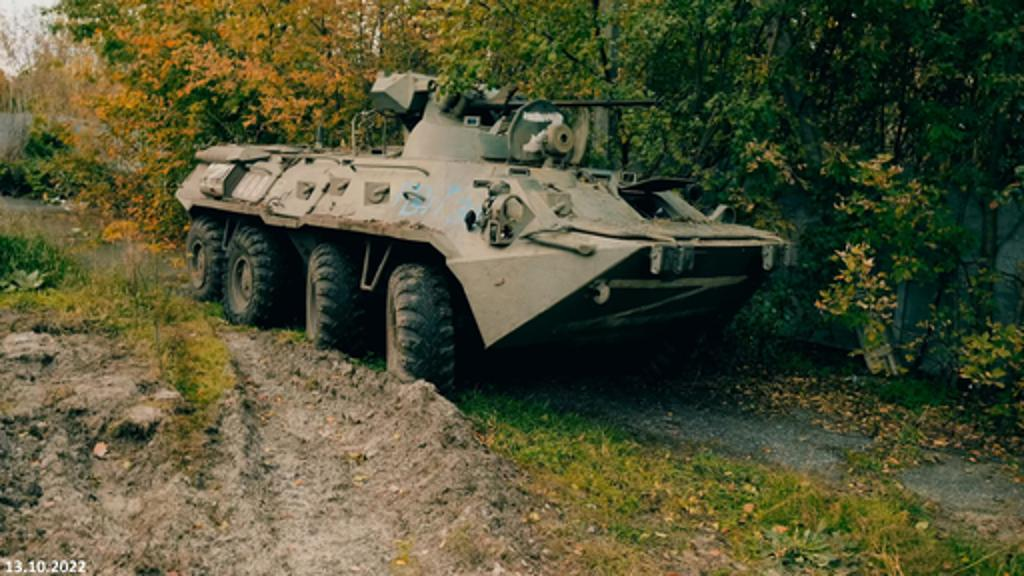APC-IFV: (166, 62, 790, 404)
